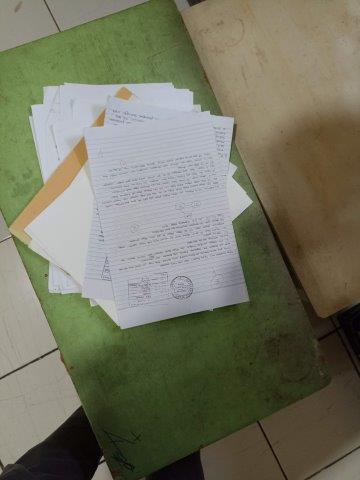kertas: (7, 82, 253, 330)
